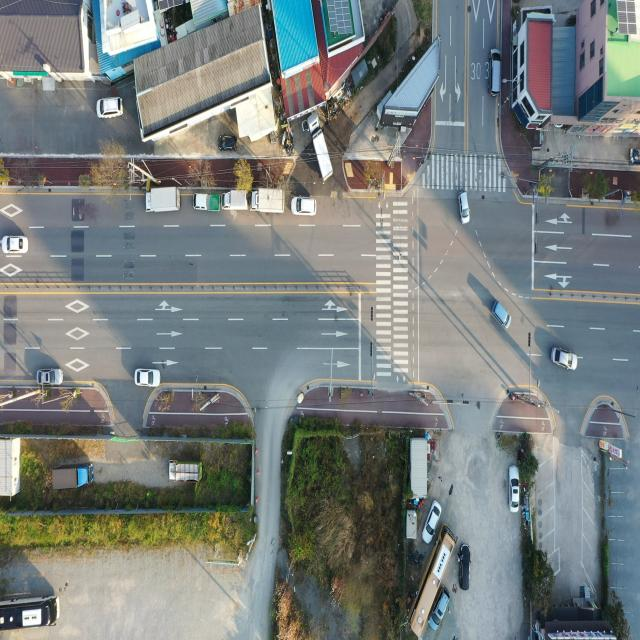car: (488, 44, 505, 99), (422, 497, 441, 546), (428, 585, 449, 629), (550, 346, 576, 371), (97, 96, 124, 119), (492, 302, 511, 330), (218, 132, 240, 156), (1, 236, 28, 255), (293, 197, 318, 217), (510, 468, 521, 512), (134, 368, 160, 386), (37, 366, 63, 384), (460, 543, 470, 588), (458, 190, 469, 224)
large_bus: (406, 529, 458, 640), (0, 595, 61, 635)
medium_truck: (304, 112, 334, 180), (52, 458, 95, 491), (146, 184, 182, 213), (248, 191, 284, 214)
small_truck: (167, 459, 204, 484), (192, 189, 222, 214), (222, 190, 247, 214)
